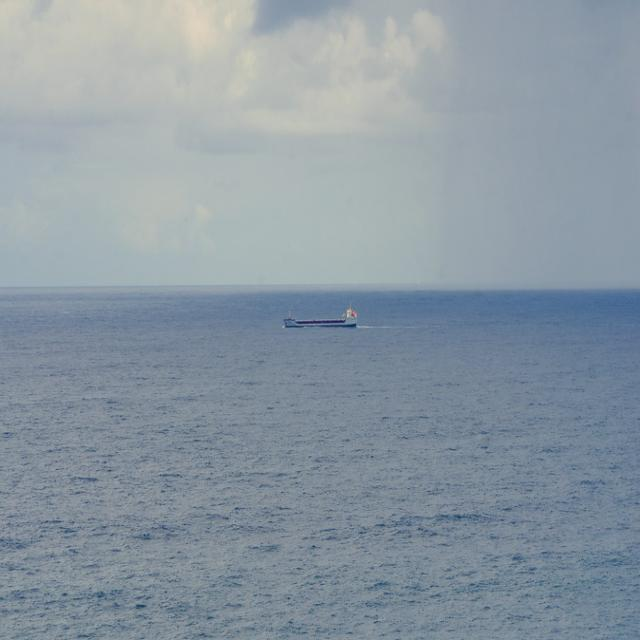cargoship: (282, 302, 360, 331)
